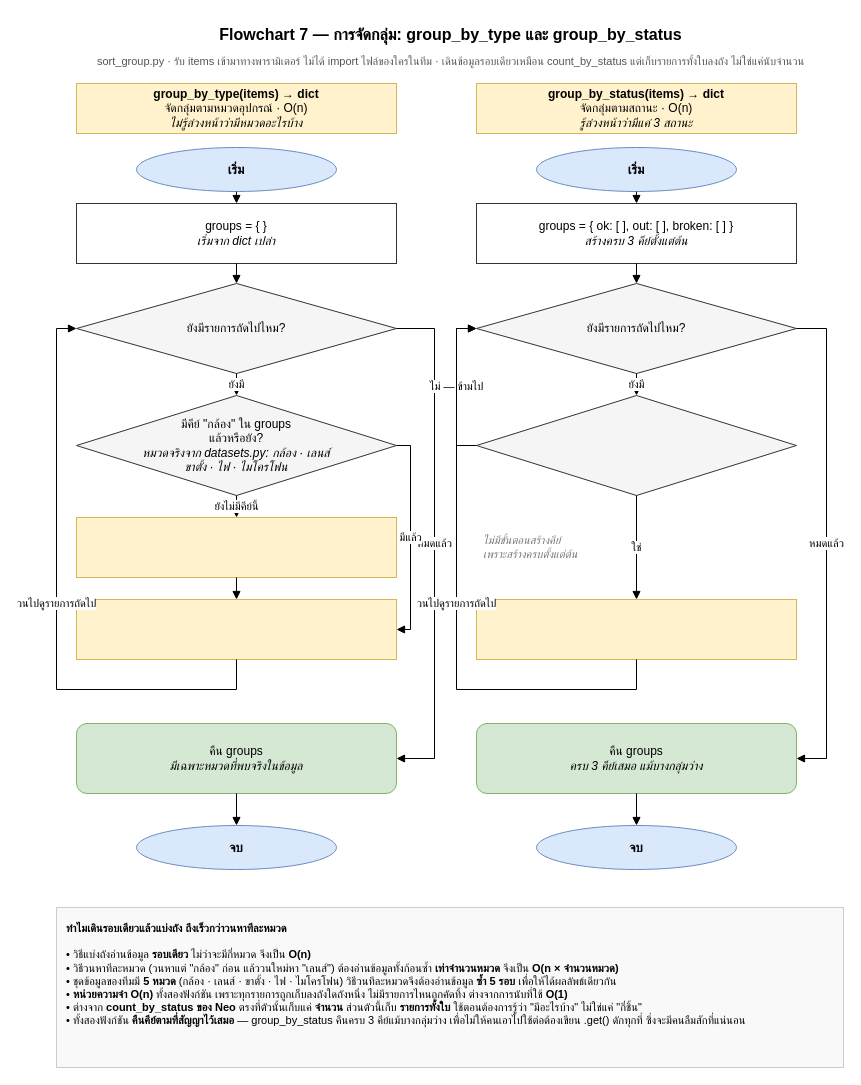
Image size: 861x1085. Some labels were removed from this diagram. The centre of each missing label's shape, as x and y in pixels:
"groups[category].append(item)" belongs at point 236,629.
"groups[status].append(item)" belongs at point 636,629.
"status เป็นหนึ่งใน 3 คีย์ที่รู้จักไหม? ค่าแปลกปลอมถูกข้าม ไม่ทำให้พัง" belongs at point 636,445.
"สร้างคีย์ใหม่ให้เป็น list ว่าง groups.setdefault ทำให้ในคำสั่งเดียว" belongs at point 236,547.
